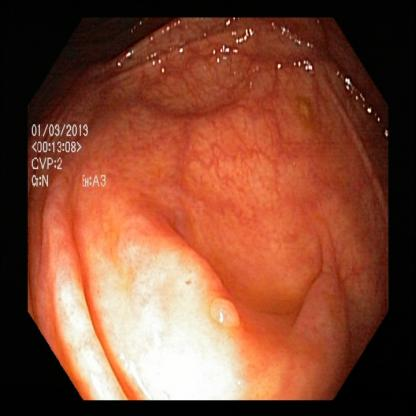Polyps: (193, 278, 262, 359)
